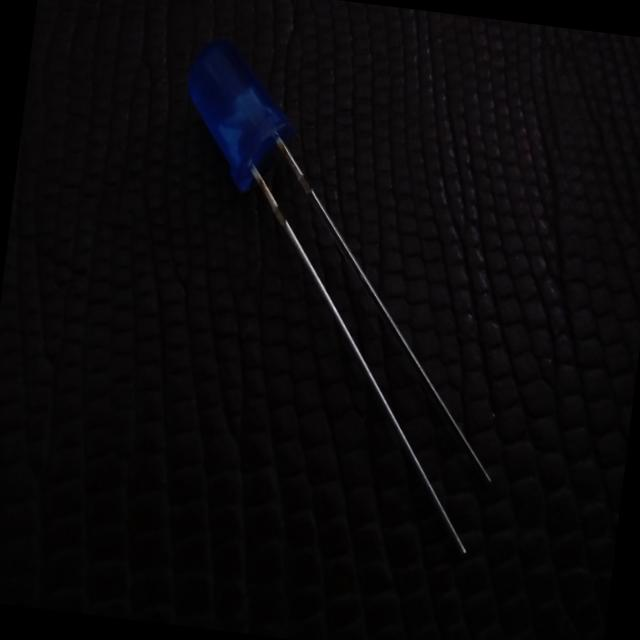blue_led: (173, 32, 306, 198)
